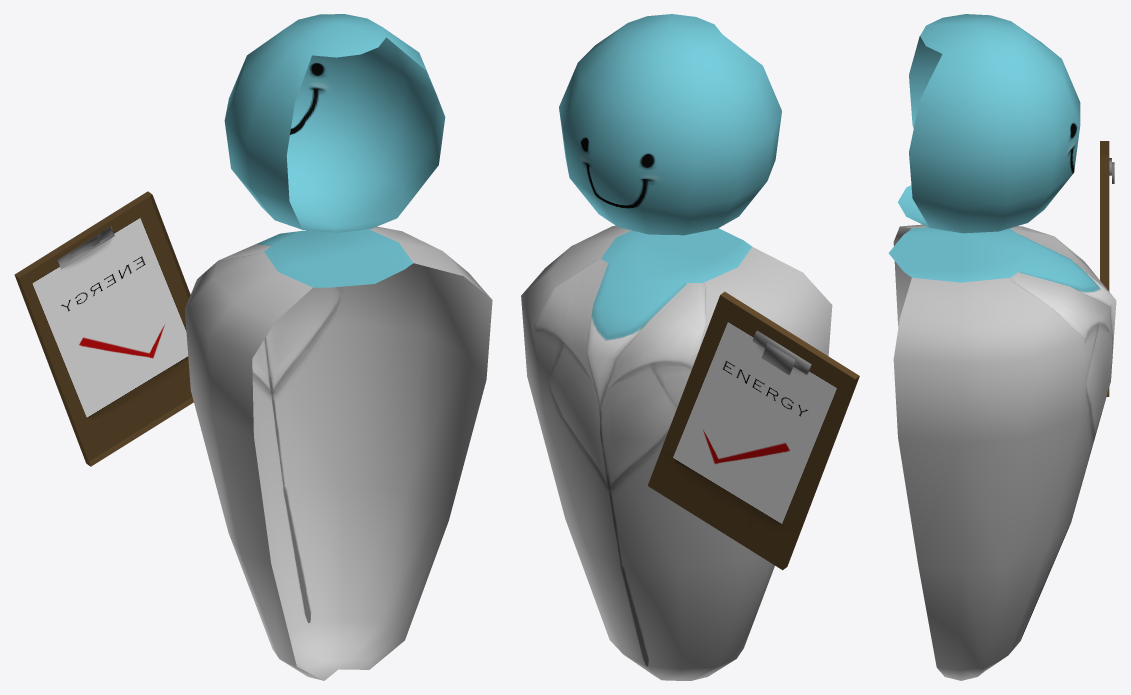
File: Researcher.FBX
The picture shows the model from 3 angles, left to right: view 1: azimuth 30°, elevation 25°; view 2: azimuth 150°, elevation 25°; view 3: azimuth 270°, elevation 25°; orthographic projection.
Parts seen in each view (by area): view 1: Box001, Sphere001, clipboard; view 2: Box001, Sphere001, clipboard; view 3: Box001, Sphere001, clipboard.
Part boxes in pixels (x1,y1,x2,y2): Box001: (184,226,492,680); Sphere001: (224,14,445,232); clipboard: (14,191,193,466); Box001: (521,225,832,680); Sphere001: (559,14,781,235); clipboard: (647,291,859,570); Box001: (888,224,1116,680); Sphere001: (898,14,1080,233); clipboard: (1100,141,1114,396).
Size of the model in its own units: 21.45 by 34.52 by 11.11.
